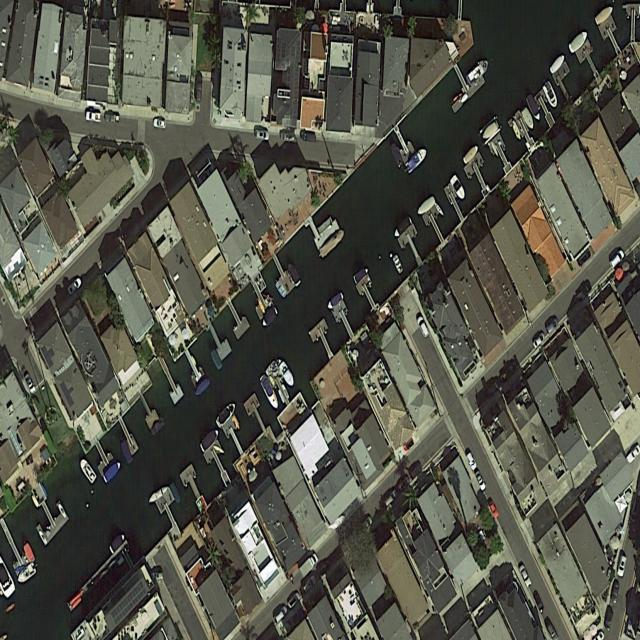large-vehicle: (298, 550, 319, 579)
ship: (258, 373, 281, 413), (319, 227, 346, 260), (466, 56, 491, 87), (215, 399, 238, 431), (405, 145, 429, 175), (276, 357, 296, 391), (542, 80, 560, 112), (199, 427, 221, 453), (568, 29, 589, 56), (78, 457, 97, 486), (147, 483, 171, 505), (16, 561, 37, 586), (449, 174, 467, 203), (525, 94, 542, 124), (594, 3, 615, 27), (393, 215, 413, 240), (118, 435, 134, 466), (103, 459, 122, 485), (417, 195, 437, 218), (481, 119, 500, 143), (261, 305, 278, 329), (549, 52, 566, 76), (109, 531, 126, 555), (287, 261, 302, 288), (326, 291, 345, 312), (193, 377, 211, 399), (463, 143, 480, 166), (389, 142, 404, 168), (521, 106, 536, 132), (22, 539, 36, 565), (209, 347, 223, 372), (353, 265, 370, 285), (169, 482, 182, 505), (275, 280, 288, 300), (393, 254, 404, 275), (435, 202, 445, 217), (406, 140, 416, 154), (460, 92, 469, 104)
small-vehicle: (576, 280, 593, 305), (271, 604, 289, 627), (383, 487, 399, 510), (408, 461, 424, 484), (519, 564, 533, 590), (396, 474, 412, 496), (301, 574, 317, 596), (609, 249, 625, 270), (625, 444, 640, 466), (417, 314, 430, 339), (359, 515, 374, 536), (68, 276, 83, 297), (474, 469, 487, 493), (532, 591, 545, 614), (24, 373, 37, 396), (287, 590, 301, 611), (616, 554, 627, 579), (486, 498, 499, 519), (532, 332, 546, 351), (577, 249, 591, 268), (604, 608, 615, 631), (466, 451, 478, 472), (546, 317, 559, 336), (195, 73, 203, 103), (610, 580, 620, 604), (105, 112, 121, 124), (85, 111, 101, 123), (254, 129, 269, 141), (153, 118, 166, 131), (301, 131, 316, 142), (150, 572, 163, 582), (280, 132, 294, 141)
